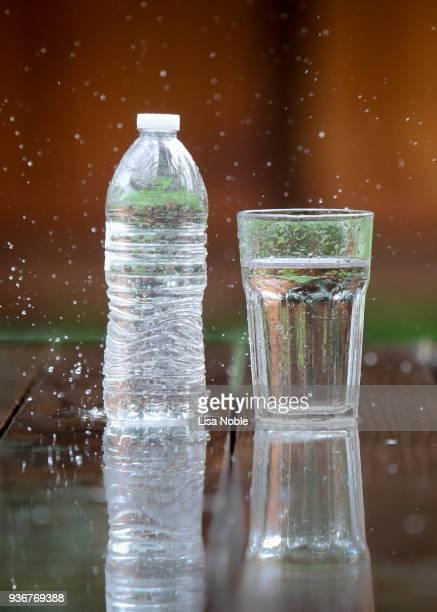bottle: (94, 103, 216, 433)
